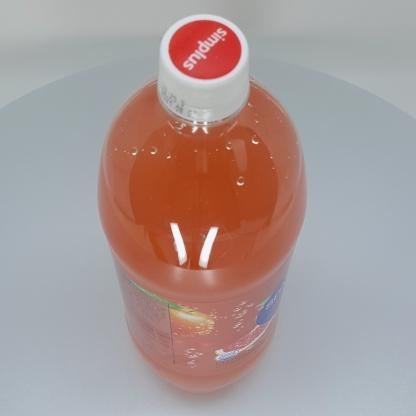--------------: (97, 13, 307, 395)
